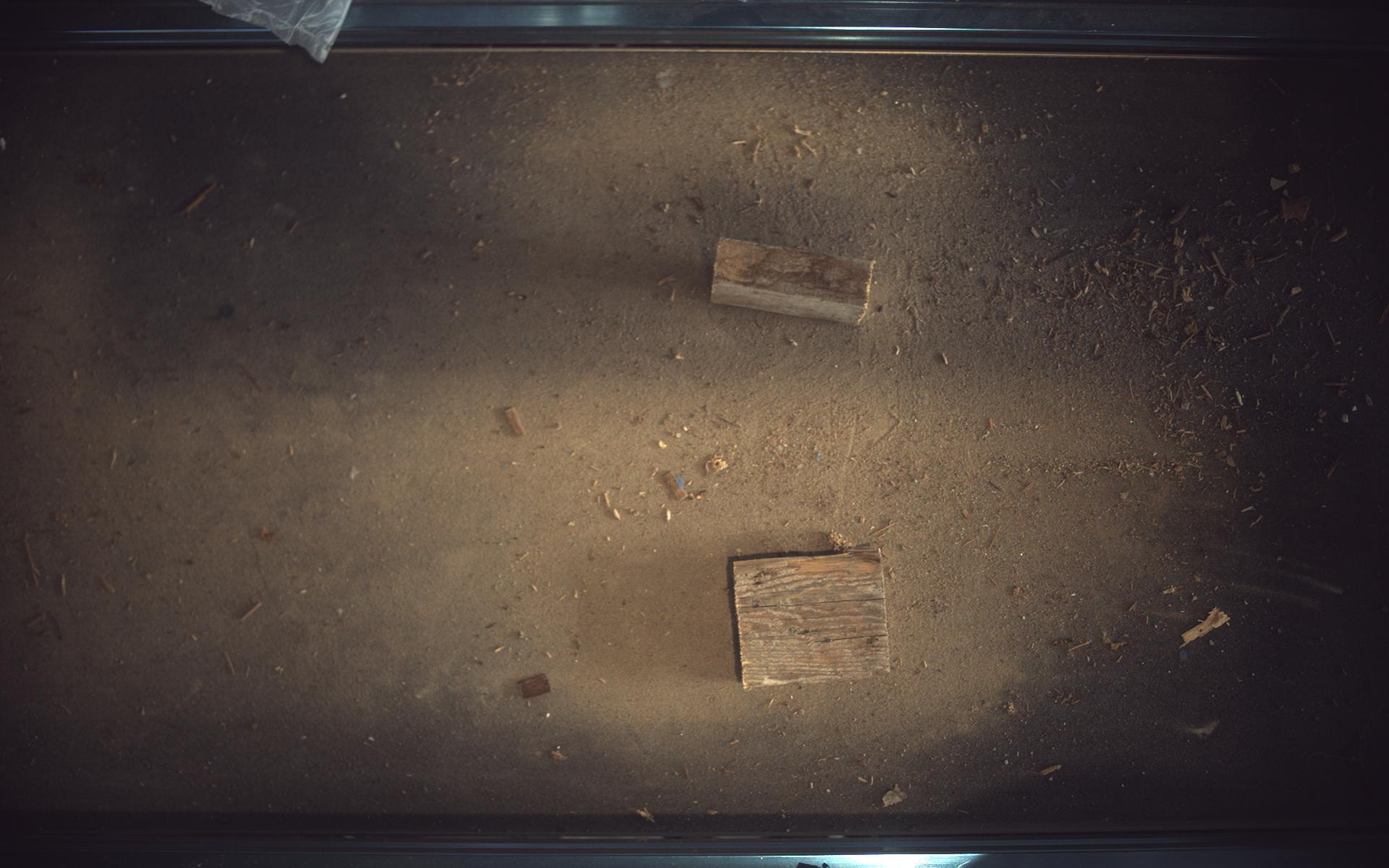wood: (734, 548, 891, 690), (713, 237, 875, 324)
